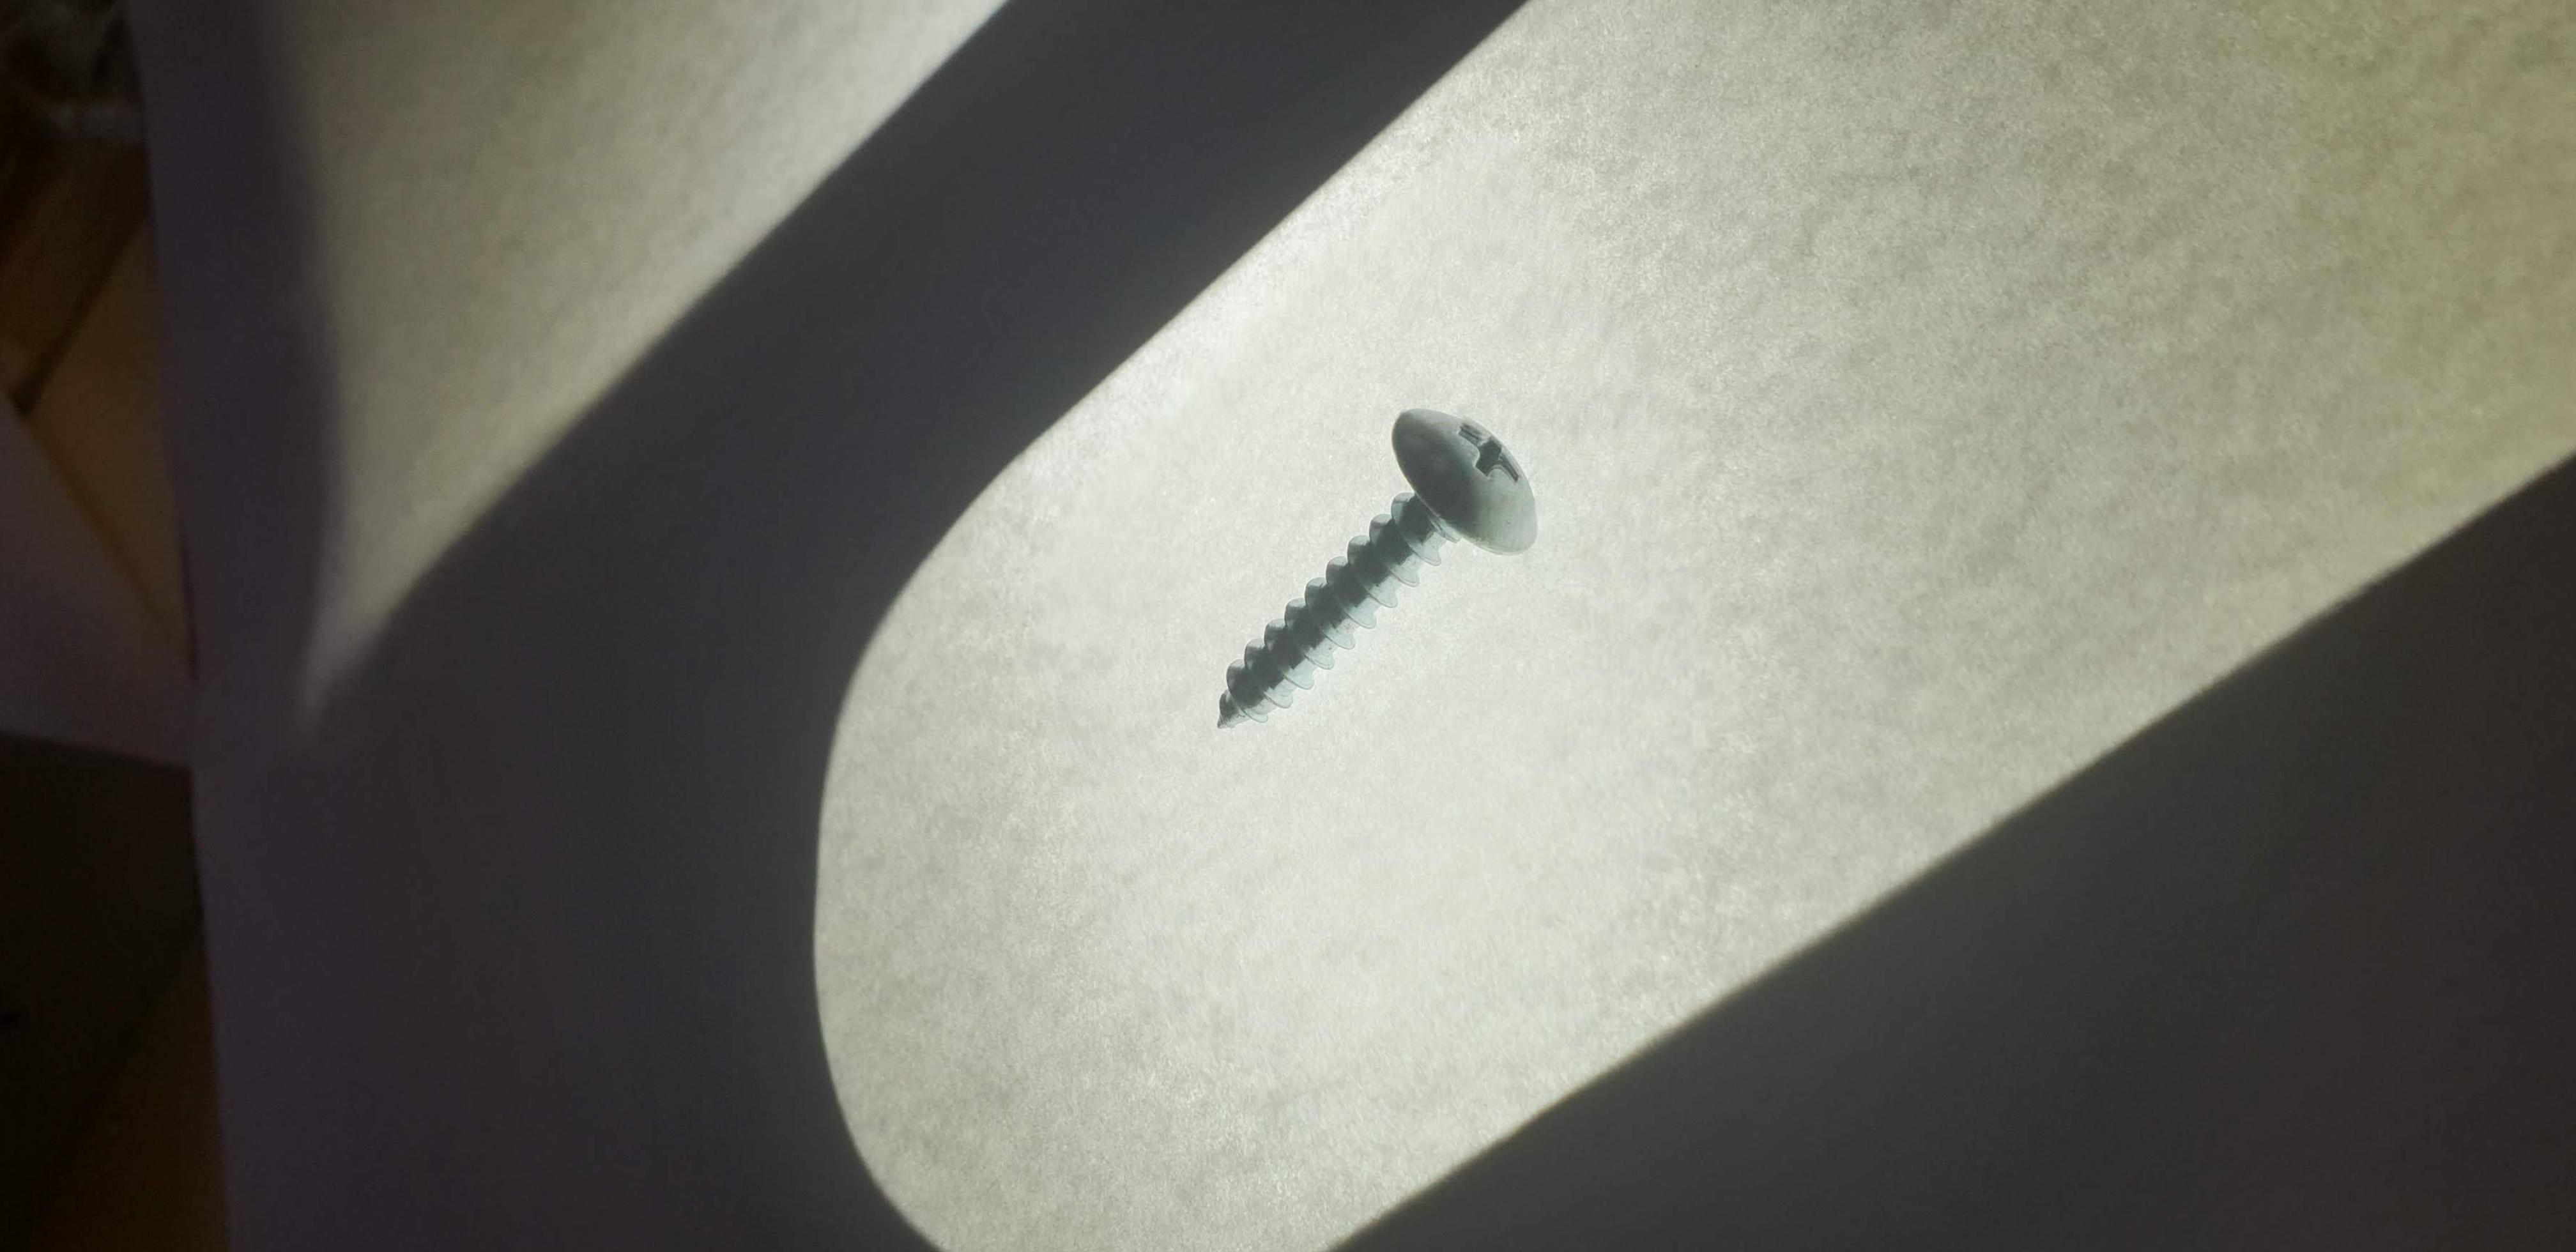S002: (1158, 371, 1580, 780)
